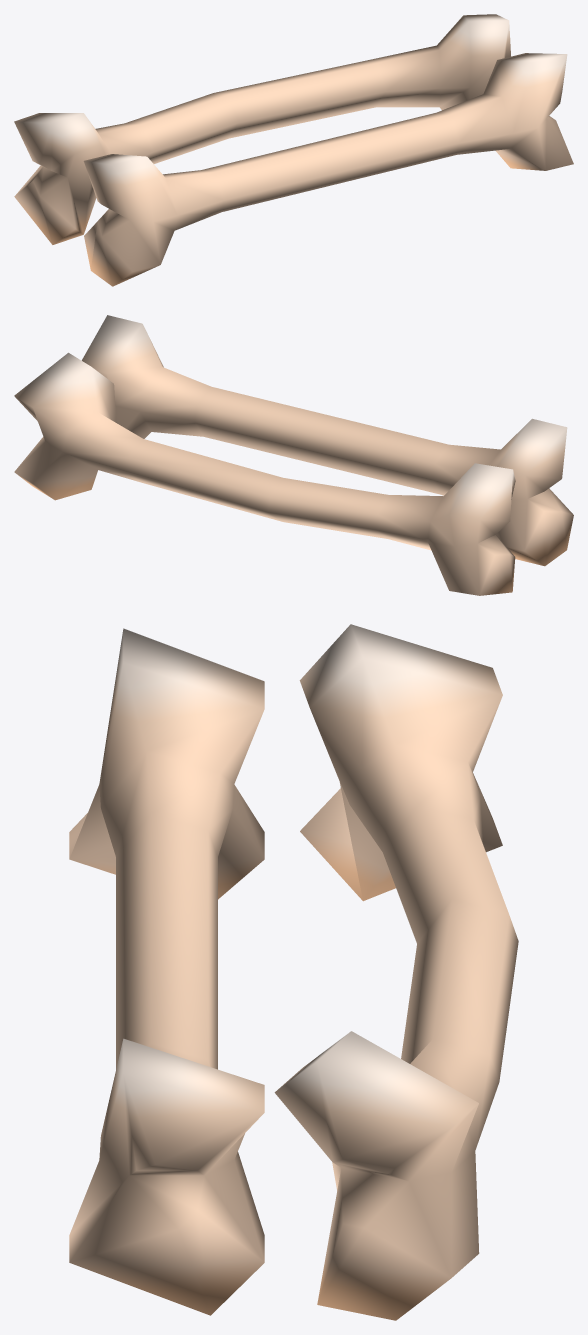
File: Bone_2_color_2.FBX
The picture shows the model from 3 angles, top to bottom: view 1: azimuth 30°, elevation 25°; view 2: azimuth 150°, elevation 25°; view 3: azimuth 270°, elevation 25°; orthographic projection. The views are drawn at different scales.
Visible parts, largest first — view 1: Bone; view 2: Bone; view 3: Bone.
Part boxes in pixels (left/top/right/bottom): Bone: left=14, top=14, right=573, bottom=286; Bone: left=14, top=315, right=573, bottom=595; Bone: left=69, top=624, right=518, bottom=1320.
Bounding box in the file's own units: 0.7813 × 0.1929 × 0.321.
